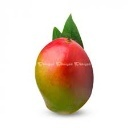mango: (35, 36, 94, 113)
